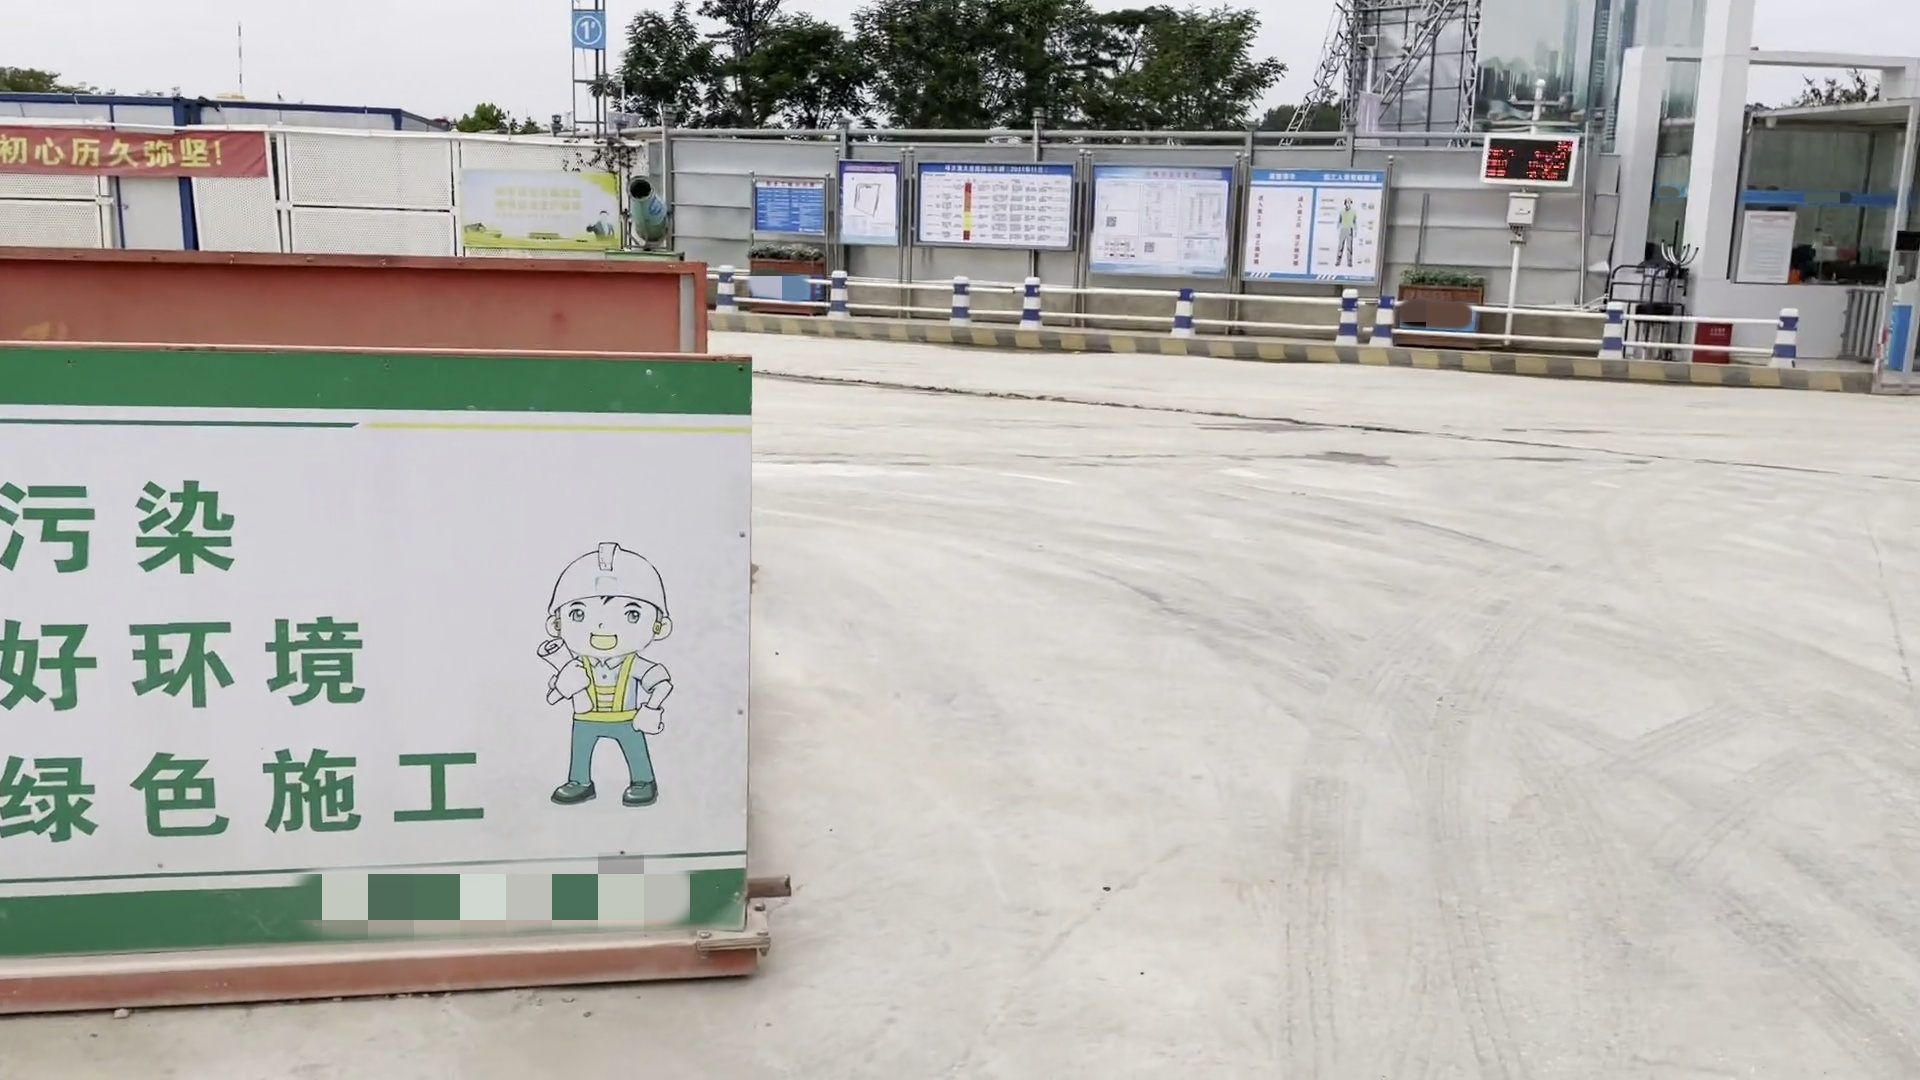slogan: (3, 345, 742, 932), (1091, 167, 1226, 270), (458, 167, 633, 247), (914, 164, 1067, 251), (1, 128, 265, 177), (1250, 175, 1367, 276), (839, 164, 902, 244), (752, 183, 819, 235)
